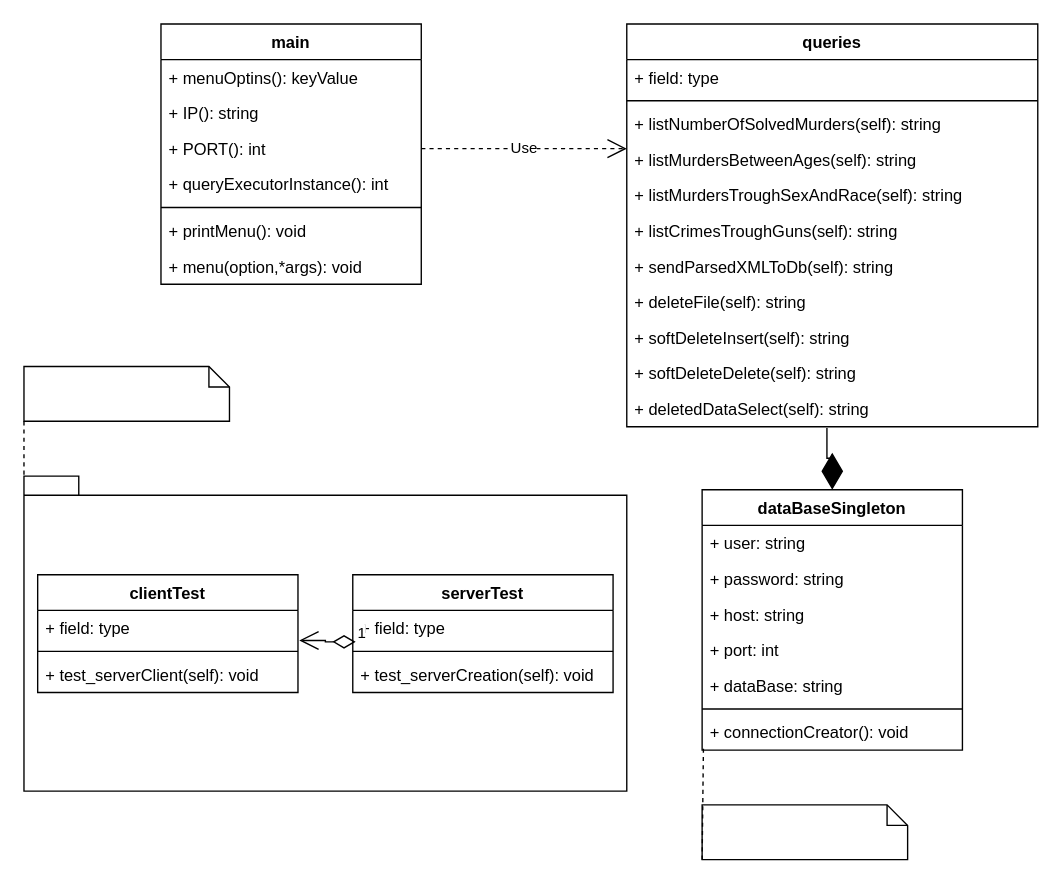
Some shapes in this 1062 by 885 pixel diagram are drawn without their labels. Each missing label, with the centre of its shape:
Not implemented: point (804, 832)
Tests: point (126, 393)
